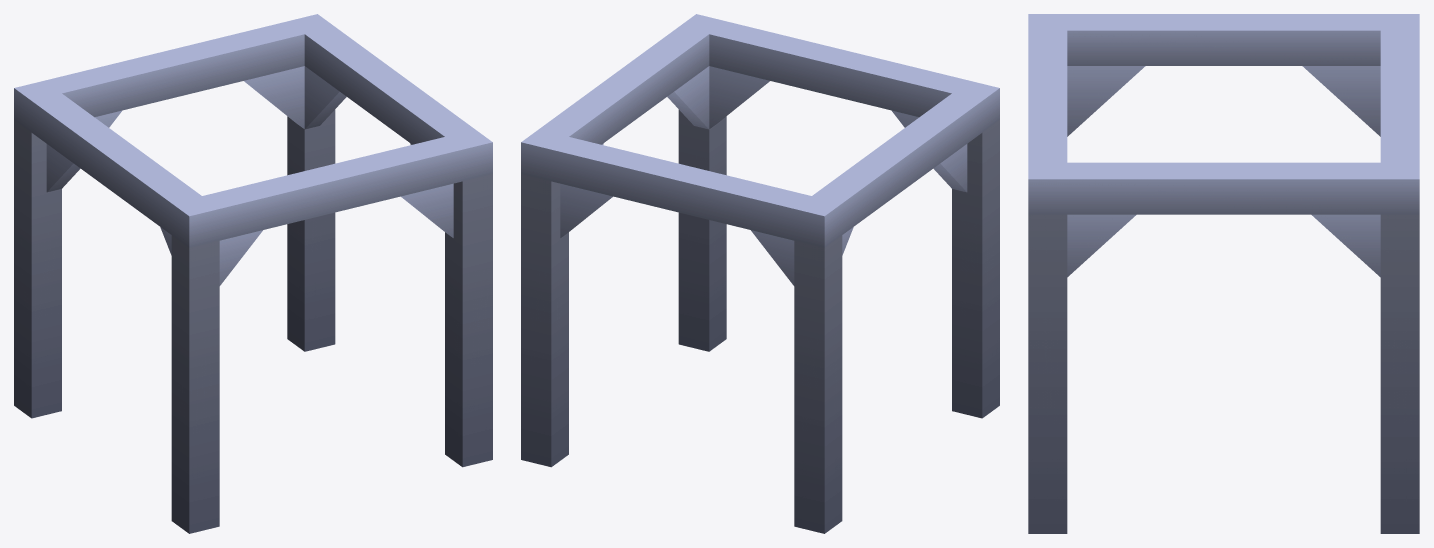
Rendered from kenney-space-station-structure.glb.
3 views of the same model, side by side, from view 1: azimuth 30°, elevation 25°; view 2: azimuth 150°, elevation 25°; view 3: azimuth 270°, elevation 25° (orthographic). The views are drawn at different scales.
Parts seen in each view (by area): view 1: Group (×10); view 2: Group (×10); view 3: Group (×7).
Boxes of the visible parts, x1,y1,x2,y2 form: Group (×10): (14, 14, 492, 533); Group (×10): (521, 14, 999, 533); Group (×7): (1028, 14, 1419, 533).
Size of the model in its own units: 1 by 1 by 1.
1 material, 1 textured.
